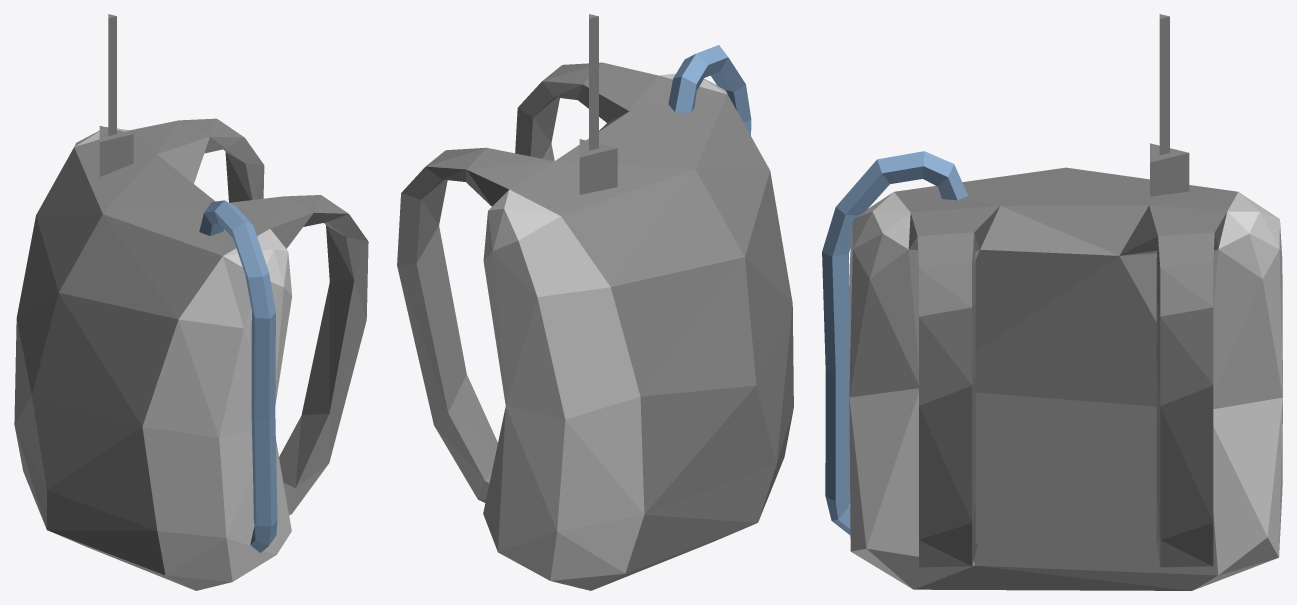
The model's file is Backpack.fbx.
The picture shows the model from 3 angles, left to right: view 1: azimuth 30°, elevation 25°; view 2: azimuth 150°, elevation 25°; view 3: azimuth 270°, elevation 25°; orthographic projection. The views are drawn at different scales.
Visible parts, largest first — view 1: Backpack; view 2: Backpack; view 3: Backpack.
Part boxes in pixels (bbox=[...]): Backpack: bbox=[14, 14, 368, 590]; Backpack: bbox=[397, 14, 793, 590]; Backpack: bbox=[822, 14, 1282, 590].
Size of the model in its own units: 96.96 by 168 by 125.
